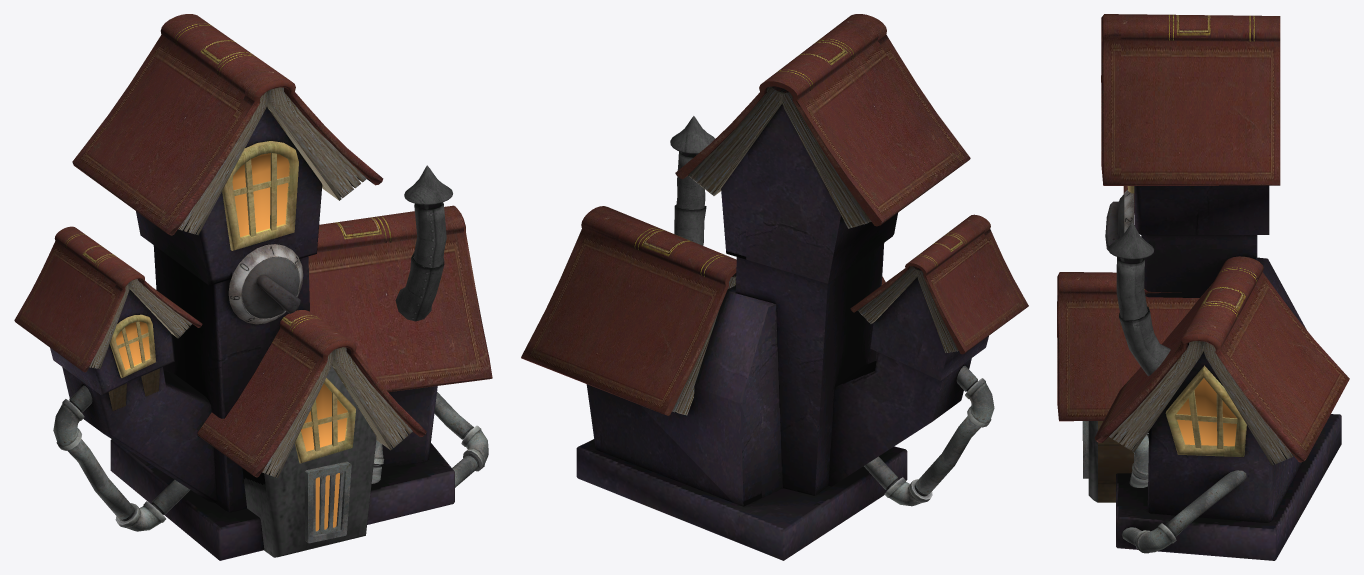
File: stitchemManor.fbx
3 renders of one model, left to right at view 1: azimuth 30°, elevation 25°; view 2: azimuth 150°, elevation 25°; view 3: azimuth 270°, elevation 25°, orthographic. The views are drawn at different scales.
Parts seen in each view (by area): view 1: stitchemmanor:house3; view 2: stitchemmanor:house3; view 3: stitchemmanor:house3.
Part boxes in pixels (x1,y1,x2,y2): stitchemmanor:house3: (14,14,492,560); stitchemmanor:house3: (521,14,1028,560); stitchemmanor:house3: (1057,14,1349,560).
Size of the model in its own units: 44.24 by 45.61 by 27.17.
Materials: 2 (2 with a texture image).
